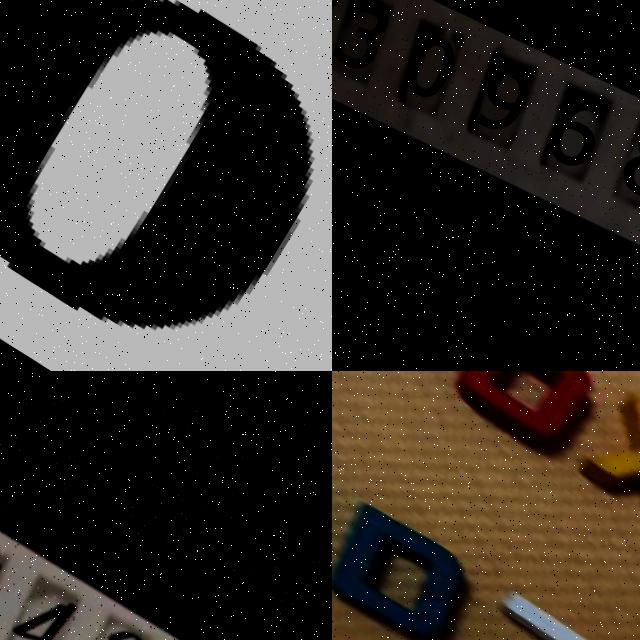0: (382, 12, 473, 116)
3: (332, 0, 406, 86), (54, 596, 170, 640)
4: (0, 557, 99, 640)
6: (0, 0, 332, 371), (524, 73, 626, 187)
7: (0, 522, 24, 640)
8: (601, 104, 640, 213)
9: (455, 44, 548, 148)
D: (332, 499, 486, 640)
O: (449, 371, 604, 459)
X: (585, 388, 640, 533)
Z: (454, 581, 616, 640)
